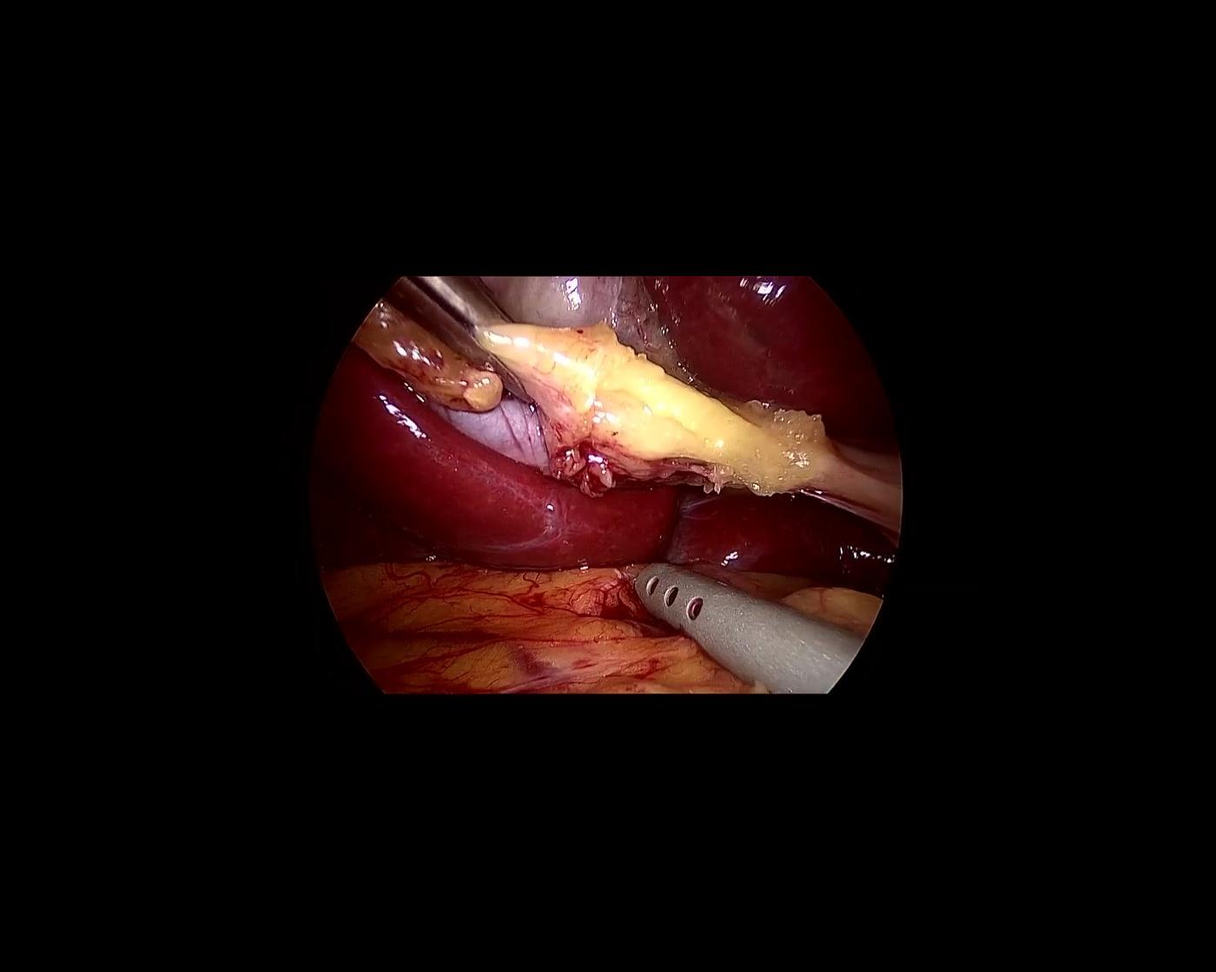Forceps: (380, 238, 564, 435)
Gallbladder: (408, 210, 754, 530)
Liver: (293, 341, 905, 694), (640, 276, 897, 456)
Suction: (616, 556, 865, 718)
